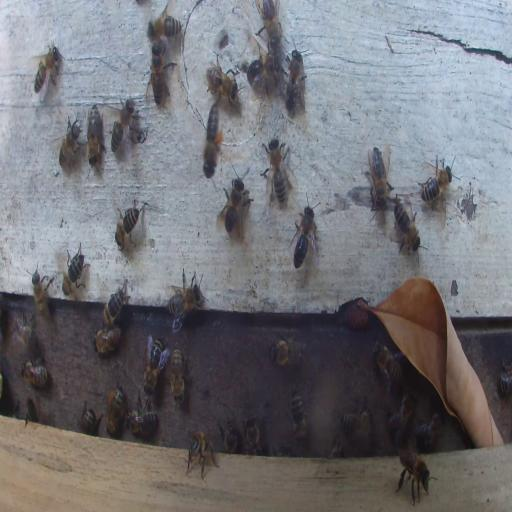bee: (166, 264, 208, 330), (216, 169, 254, 238), (291, 193, 319, 271), (417, 153, 454, 211), (260, 136, 290, 205), (396, 451, 434, 505), (202, 97, 225, 181), (392, 194, 422, 256), (184, 427, 218, 479), (284, 41, 308, 114), (366, 144, 392, 210), (147, 44, 173, 106), (110, 98, 138, 152), (268, 332, 307, 370), (373, 341, 403, 390), (113, 203, 144, 250), (34, 45, 60, 101), (386, 392, 416, 440), (62, 243, 89, 296), (205, 59, 237, 103), (101, 282, 130, 328), (30, 264, 53, 320), (58, 115, 81, 171), (340, 398, 373, 437), (247, 53, 279, 93), (144, 336, 164, 395), (148, 5, 181, 40), (86, 103, 102, 172), (416, 411, 444, 449), (106, 385, 126, 437), (256, 0, 280, 43), (289, 390, 308, 444), (126, 407, 158, 438), (170, 346, 185, 404), (93, 324, 121, 354), (20, 360, 48, 389), (12, 312, 33, 348), (218, 420, 238, 454), (244, 415, 261, 455), (500, 359, 512, 398), (80, 405, 96, 433), (25, 398, 38, 424), (329, 438, 344, 458)
